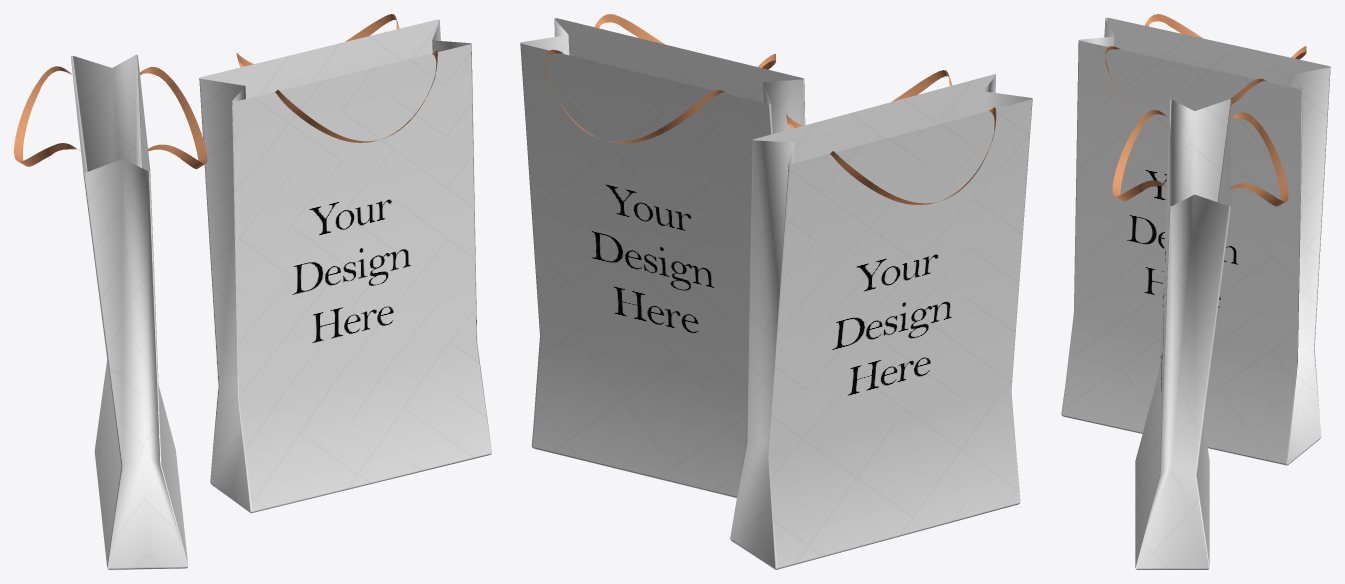
The model's file is Paper Bag A-3.glb.
The picture shows the model from 3 angles, left to right: view 1: azimuth 30°, elevation 25°; view 2: azimuth 150°, elevation 25°; view 3: azimuth 270°, elevation 25°; orthographic projection. The views are drawn at different scales.
Parts seen in each view (by area): view 1: Object_2.003, Object_2.001, Object_2.002, Object_2.004; view 2: Object_2.001, Object_2.003, Object_2.004, Object_2.002; view 3: Object_2.001, Object_2.003, Object_2.004, Object_2.002.
Boxes of the visible parts, left/top/right/bottom form: Object_2.003: left=199, top=19, right=491, bottom=513; Object_2.001: left=70, top=54, right=188, bottom=569; Object_2.002: left=14, top=66, right=207, bottom=169; Object_2.004: left=236, top=14, right=437, bottom=142; Object_2.001: left=730, top=74, right=1032, bottom=569; Object_2.003: left=520, top=18, right=805, bottom=497; Object_2.004: left=545, top=14, right=775, bottom=143; Object_2.002: left=786, top=70, right=996, bottom=204; Object_2.001: left=1061, top=17, right=1330, bottom=465; Object_2.003: left=1135, top=99, right=1231, bottom=569; Object_2.004: left=1112, top=110, right=1288, bottom=206; Object_2.002: left=1105, top=14, right=1306, bottom=126.
Size of the model in its own units: 6.32 by 5.73 by 3.77.
Materials: 2 (1 with a texture image).
